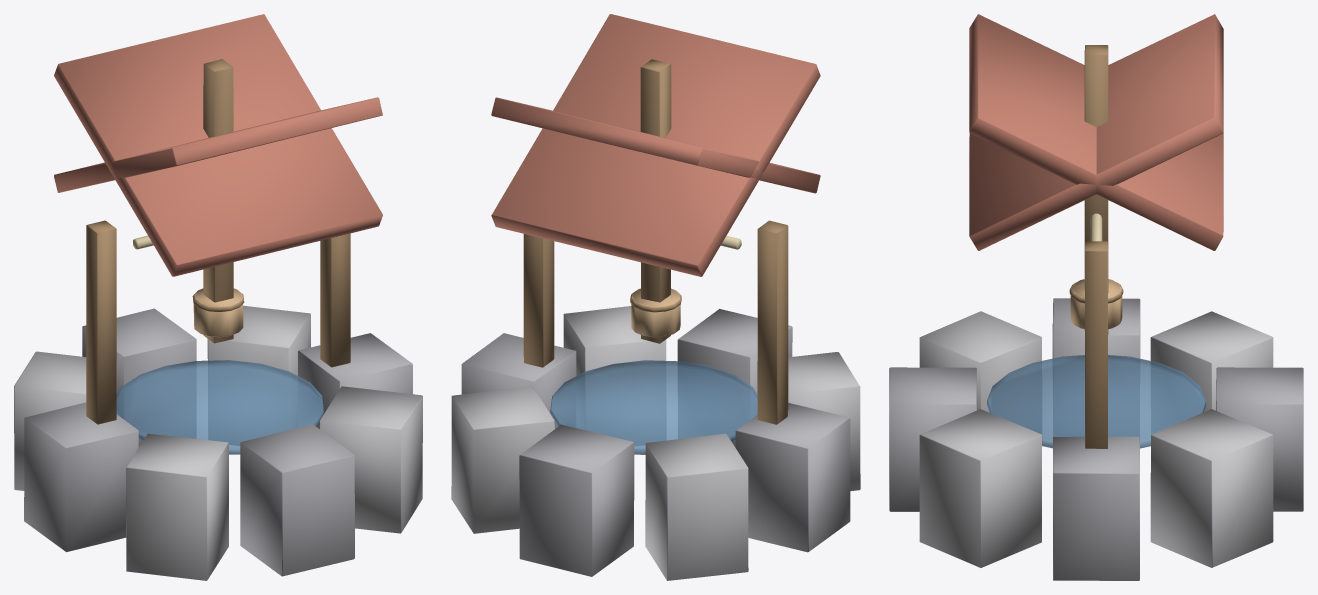
Rendered from struct_well.glb.
3 renders of one model, left to right at view 1: azimuth 30°, elevation 25°; view 2: azimuth 150°, elevation 25°; view 3: azimuth 270°, elevation 25°, orthographic. The views are drawn at different scales.
Parts seen in each view (by area): view 1: struct_well; view 2: struct_well; view 3: struct_well.
Boxes of the visible parts, box(x1,y1,x2,y2) form: struct_well: box(14, 14, 422, 580); struct_well: box(451, 14, 860, 580); struct_well: box(889, 14, 1303, 580).
Size of the model in its own units: 2.08 by 2.46 by 2.08.
